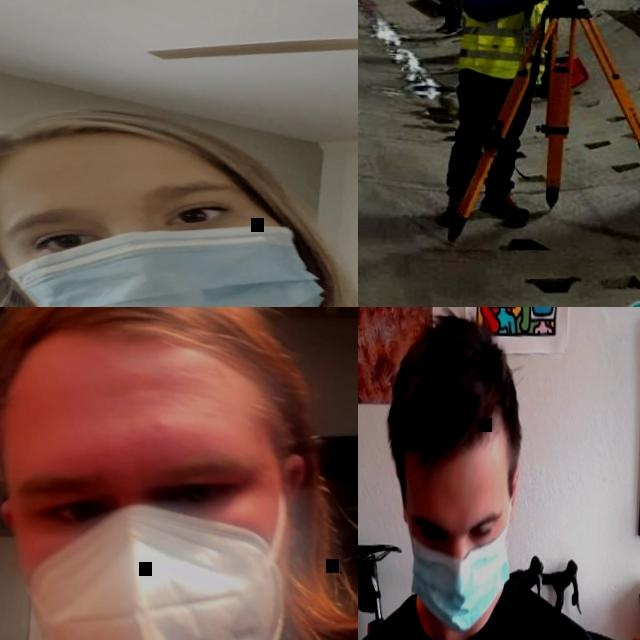Mask: (19, 497, 292, 640), (0, 214, 323, 307), (404, 513, 512, 632)
NO-Hardhat: (0, 307, 287, 456), (0, 107, 236, 203), (387, 307, 517, 451)
Person: (0, 307, 358, 640), (358, 317, 640, 640), (0, 102, 358, 307), (436, 0, 560, 230), (414, 0, 466, 33), (453, 0, 489, 36)
Safety Vest: (455, 0, 554, 86)
